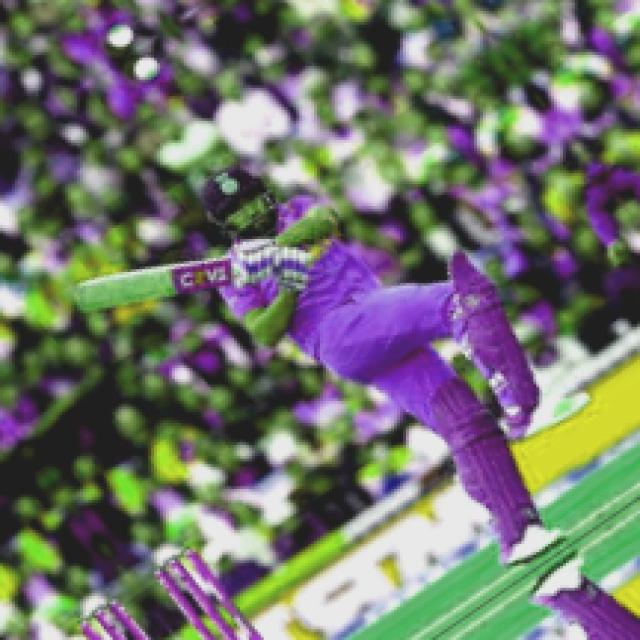toe: (71, 282, 108, 318)
